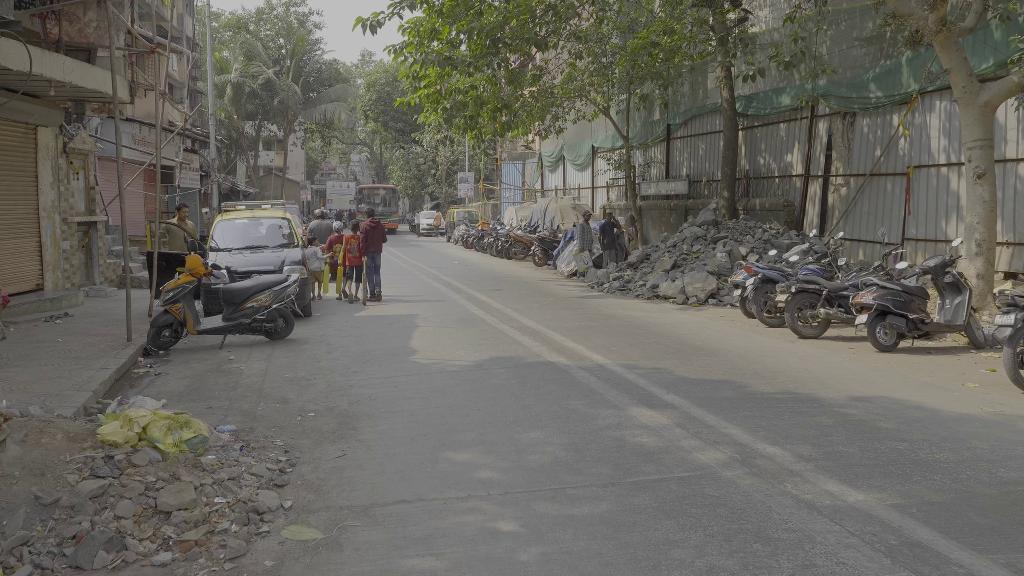garbage: (92, 401, 213, 457)
